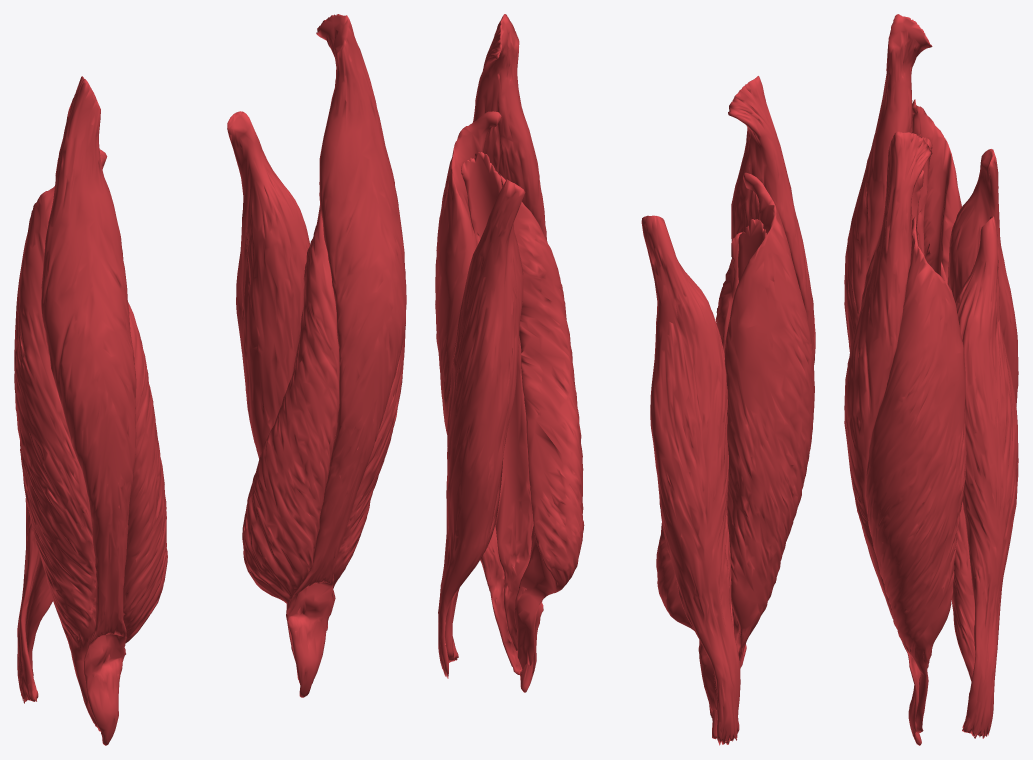
File: thigh.glb
3 views of the same model, side by side, from view 1: azimuth 30°, elevation 25°; view 2: azimuth 150°, elevation 25°; view 3: azimuth 270°, elevation 25° (orthographic). The views are drawn at different scales.
Parts seen in each view (by area): view 1: thigh__selectable; view 2: thigh__selectable; view 3: thigh__selectable.
Part boxes in pixels (x1,y1,x2,y2): thigh__selectable: (14, 14, 406, 745); thigh__selectable: (435, 14, 815, 745); thigh__selectable: (844, 14, 1018, 745).
Bounding box in the file's own units: 0.318 × 0.5454 × 0.1369.
